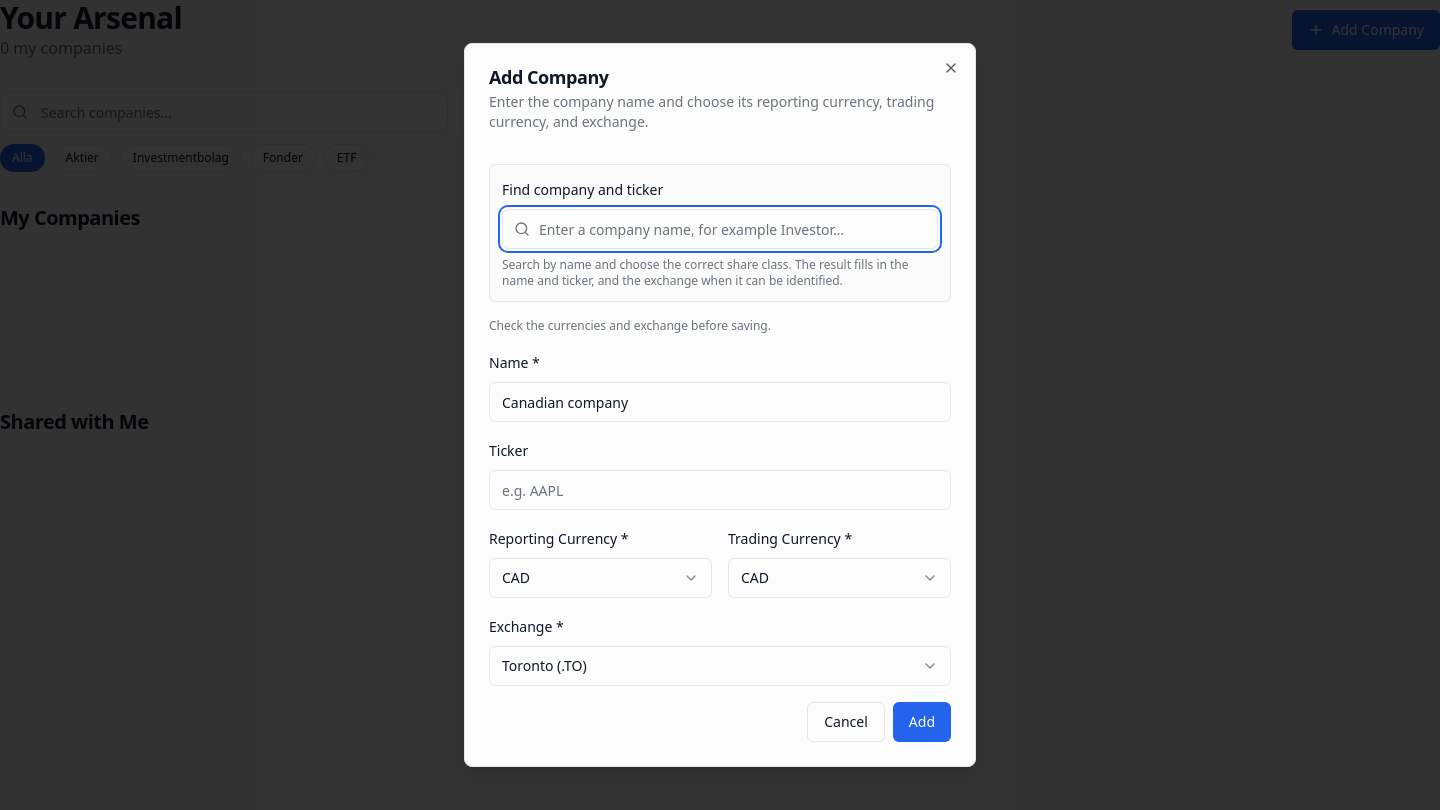
Scenario: creating a company with explicit market settings › allows an optional ticker without making a price request
Earlier steps of the test are not shown.
Click the button "Add".
click(922, 722)  # box [893,702,951,742]
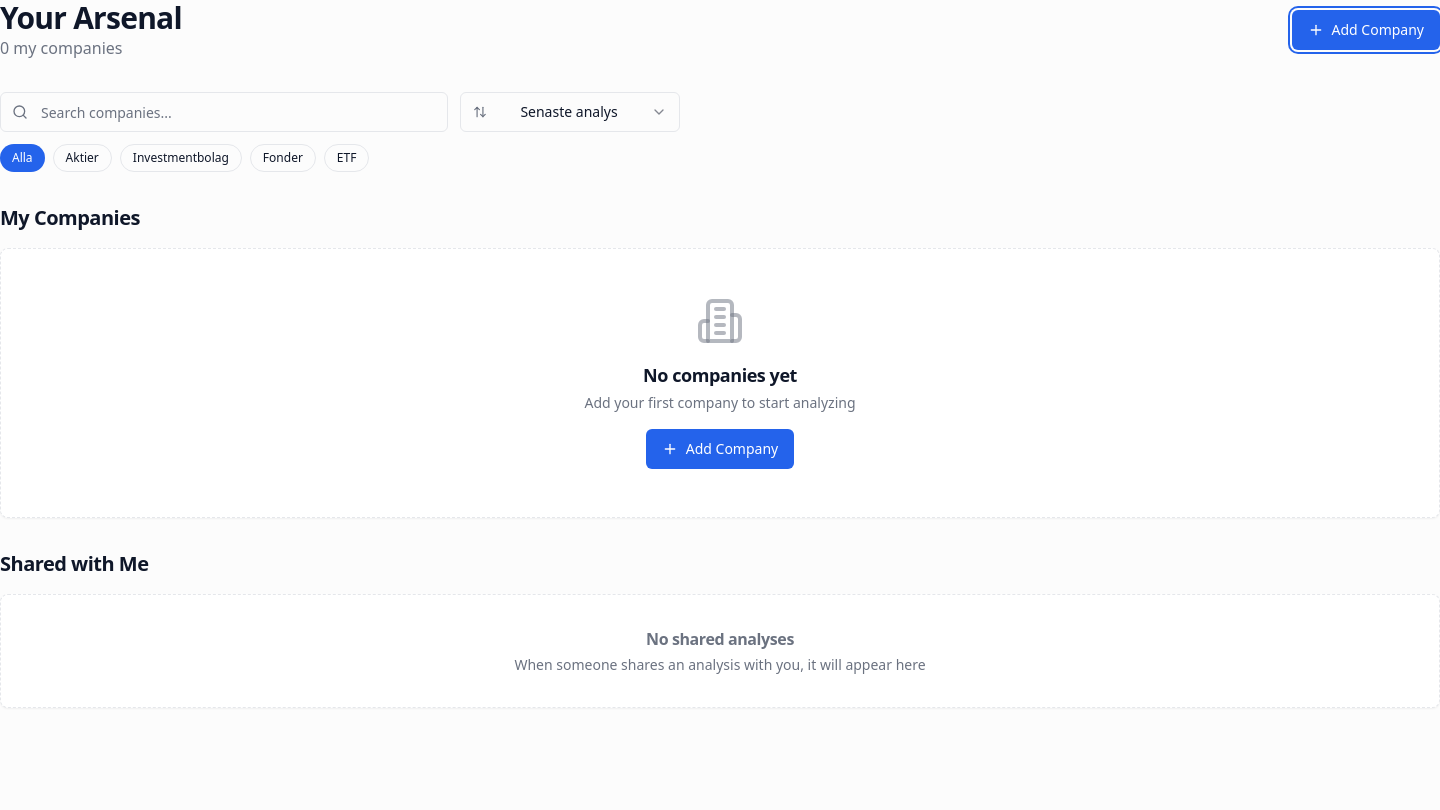
Now the dialog is gone
